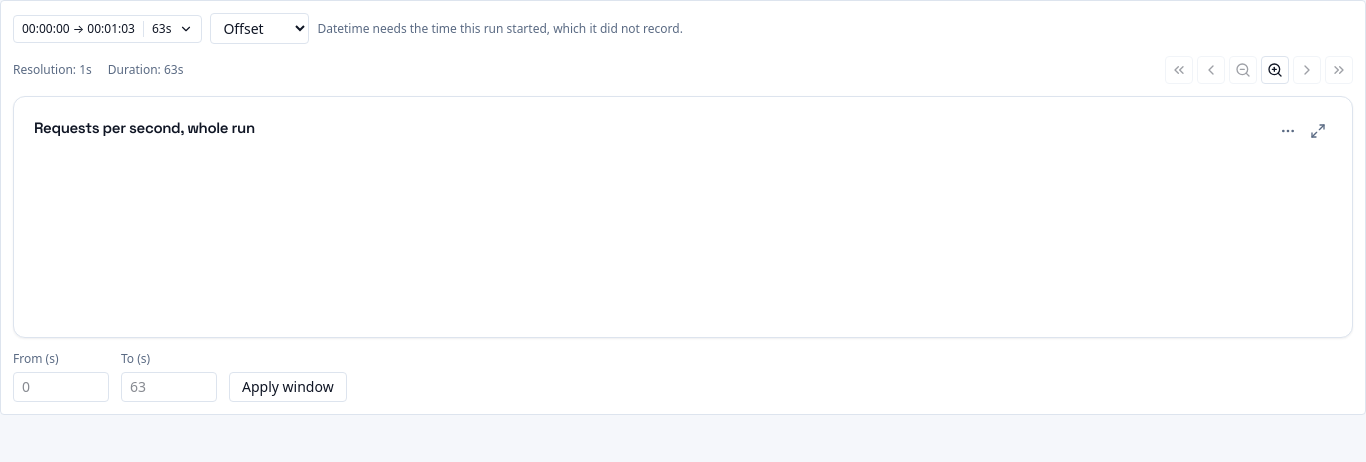
Test: TimeBrush — an invalid range is refused, never widened › refuses text that is not a number
Type "abc" into the field with test id "window-to" at (169, 387), box [121,372,217,402]
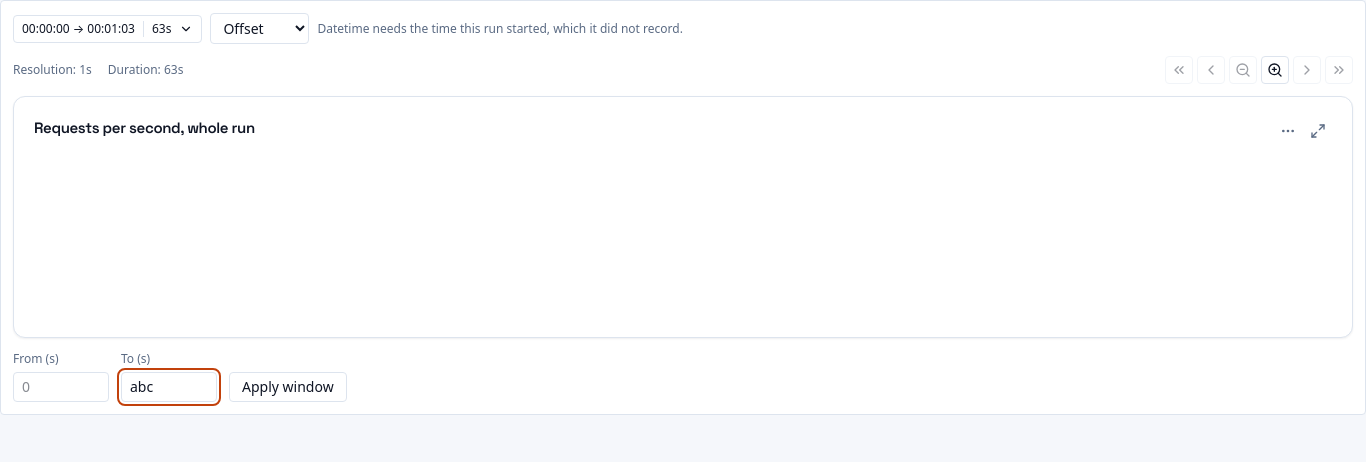
Click the button with test id "window-apply" at (288, 387), box [229,372,347,402]
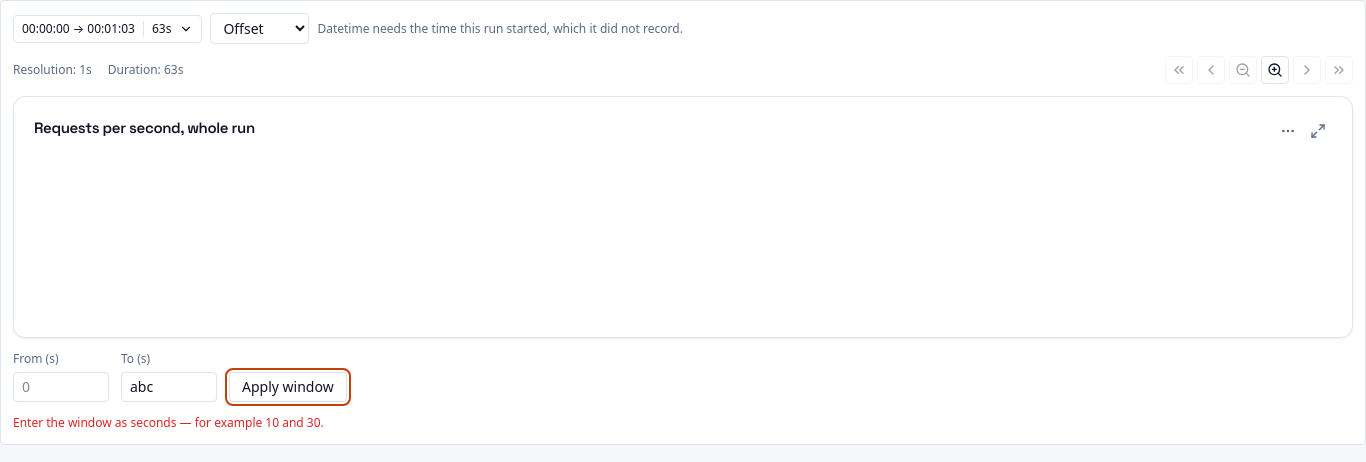
Check: the message "Enter the window as seconds — for example 10 and 30." is shown, box [13,414,324,431]
